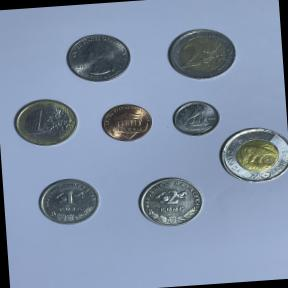1 Euro: (7, 94, 84, 150)
2 Euro: (162, 23, 242, 84)
Canda-10cent-: (167, 96, 226, 140)
Canda-2Dollar-: (217, 125, 288, 187)
Croatia-2Kune-: (132, 172, 208, 232)
US-1cent-: (96, 99, 157, 145)
US-25cent-: (61, 30, 137, 84)
